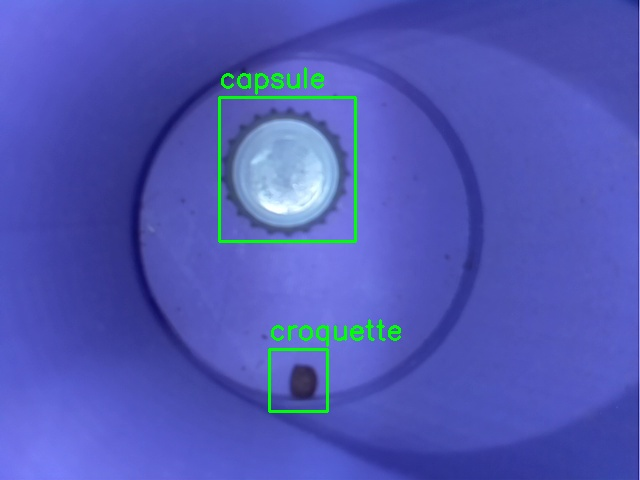capsule: (219, 97, 355, 241)
croquette: (269, 349, 327, 411)
